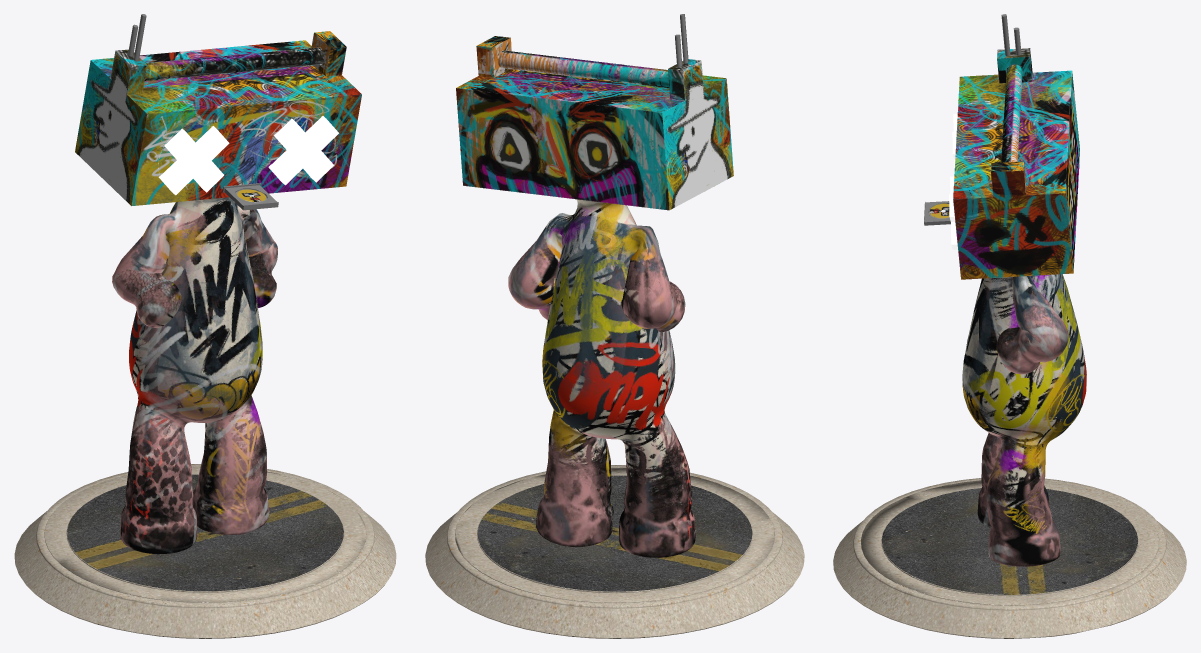
The picture shows the model from 3 angles, left to right: view 1: azimuth 30°, elevation 25°; view 2: azimuth 150°, elevation 25°; view 3: azimuth 270°, elevation 25°; orthographic projection. The views are drawn at different scales.
Visible parts, largest first — view 1: BBody; view 2: BBody; view 3: BBody.
Part boxes in pixels (x1=…): BBody: x1=14, y1=14, x2=396, y2=638; BBody: x1=425, y1=14, x2=804, y2=638; BBody: x1=833, y1=14, x2=1186, y2=638.
Size of the model in its own units: 1.45 by 2.35 by 1.45.
9 materials, 5 textured.
